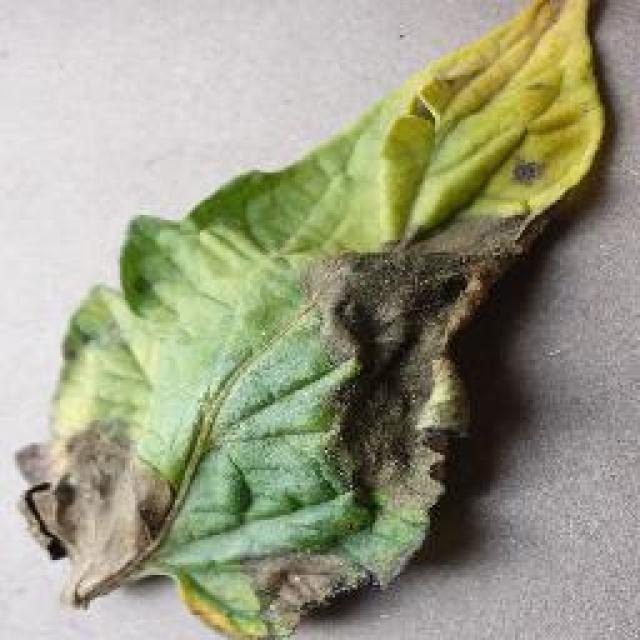Tomato___Late_blight: (11, 0, 615, 638)
